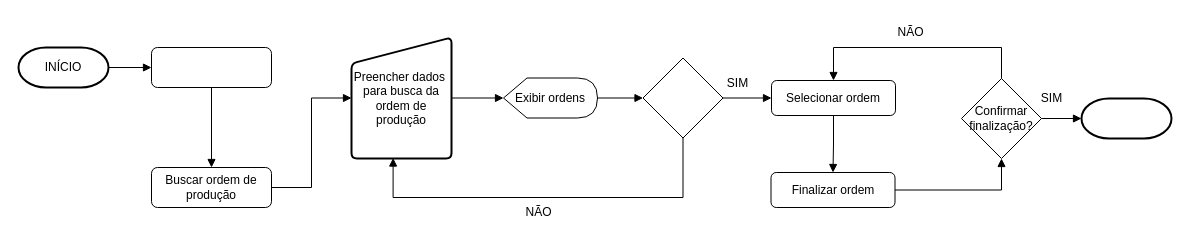
The diagram is 1189 pixels wide and 244 high, and some of its shapes have lost their labels. Each missing label, with the centre of its shape:
"FIM" goes at point (1126, 118).
"Finalizar Ordem de Produção" goes at point (211, 67).
"Ordem encontrada?" goes at point (682, 97).
